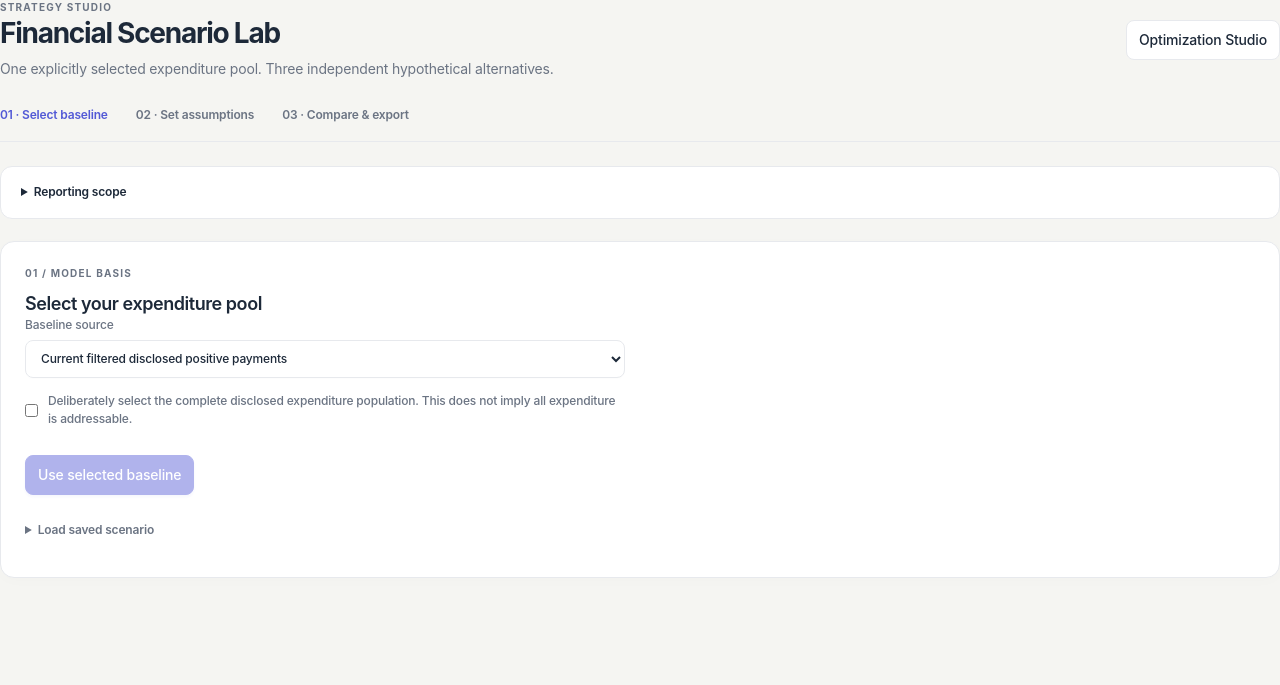
Test: Analytical and reporting workspaces › binds a baseline explicitly and keeps assumptions editable without browser financial arithmetic
Select "Analyst-provided manual baseline" in the dropdown labelled "Baseline source": (325, 359) [25, 340, 625, 378]
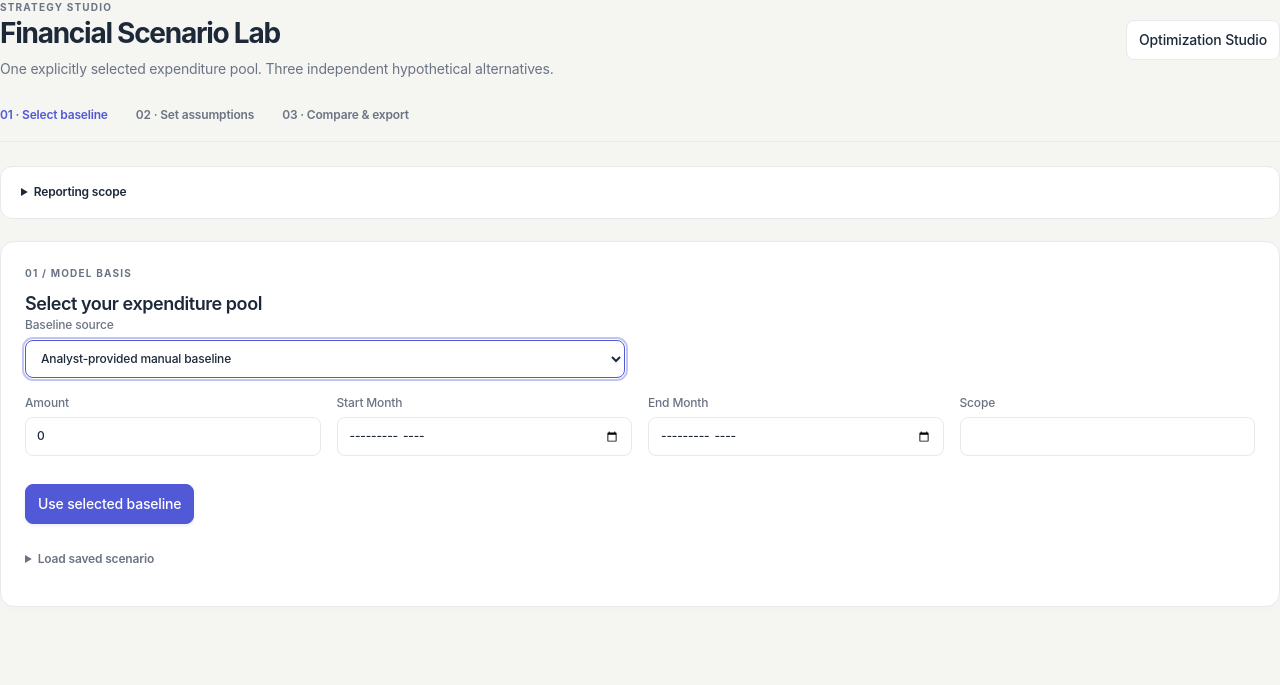
Click the button "Use selected baseline": (110, 504) [25, 484, 194, 524]
(page scrolled)
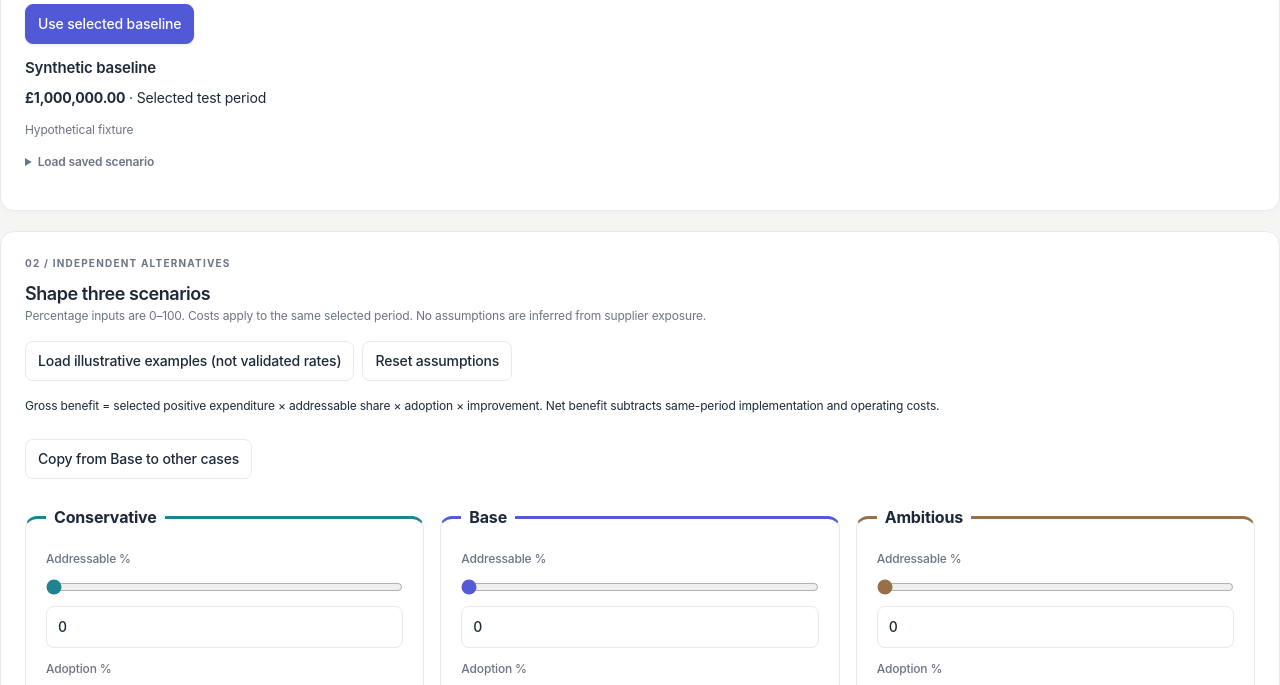
Expected: the text "£1,000,000.00" is shown, [25, 89, 125, 106]
Click the button "Load illustrative examples (not validated rates)": (190, 361) [25, 341, 354, 381]
(page scrolled)
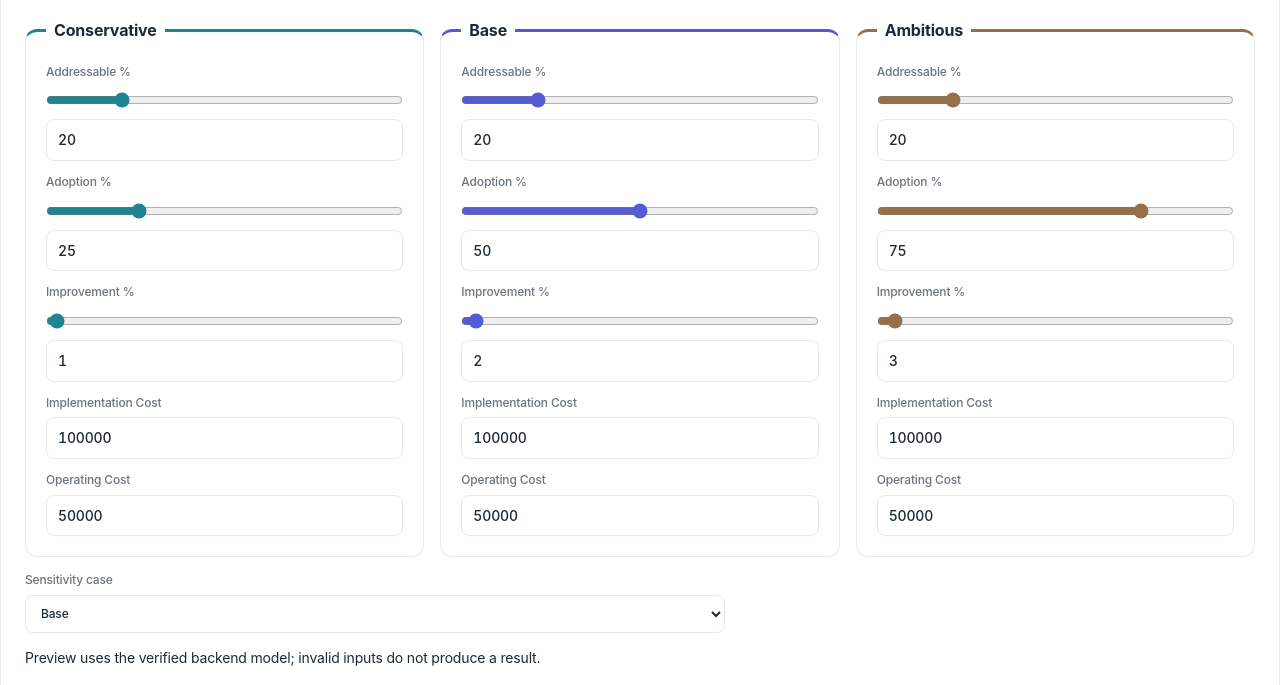
Expected: the field named "Base Improvement %" holds "2", [461, 340, 819, 382]
